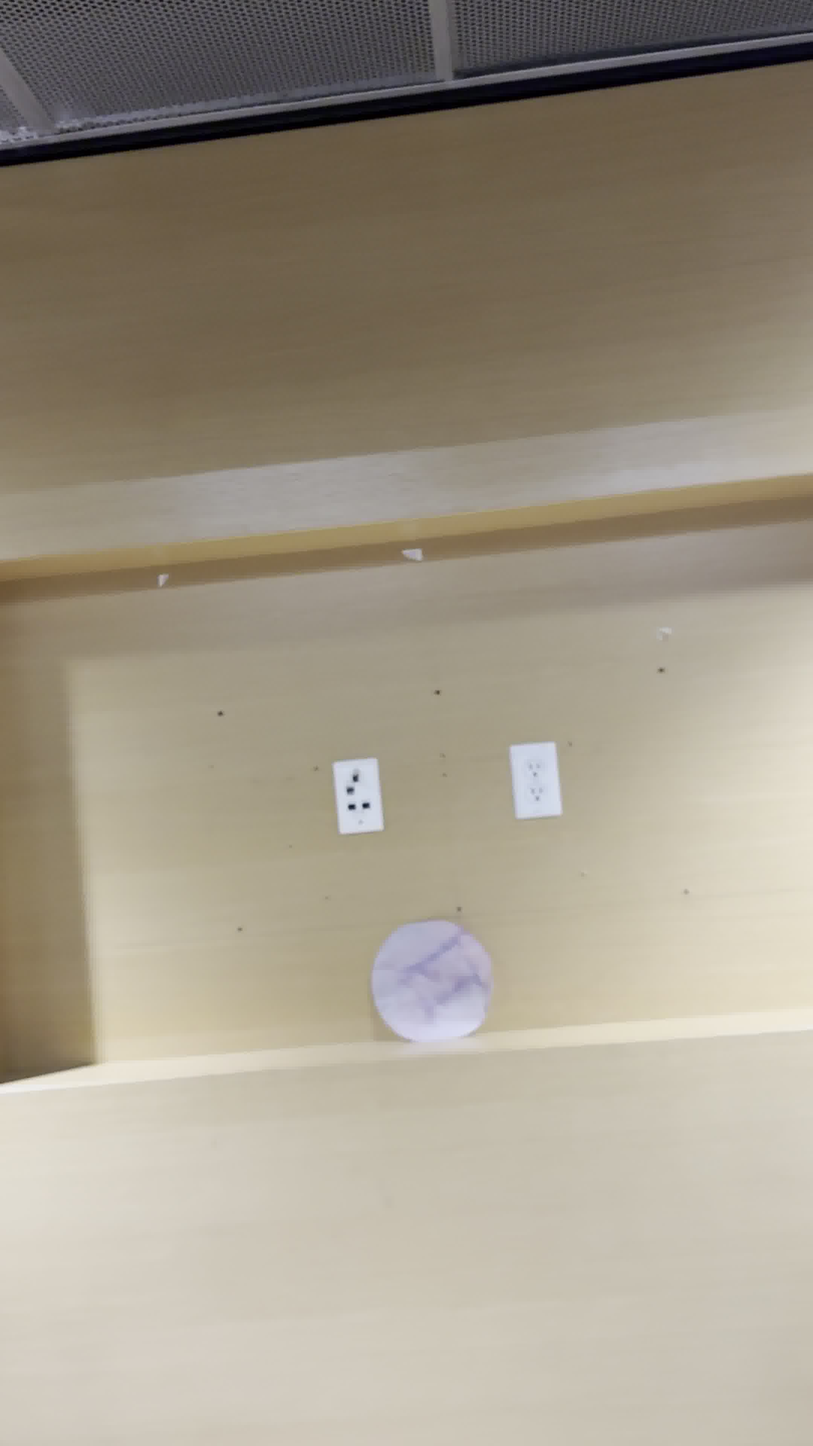Target: (369, 923, 499, 1043)
